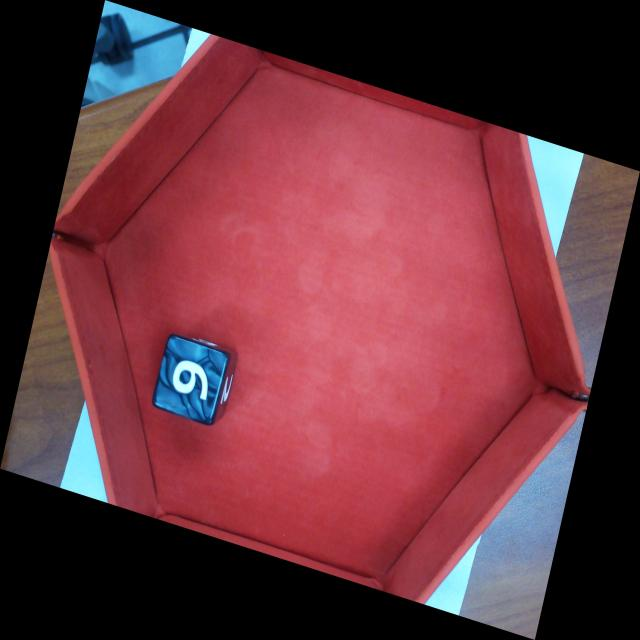dice: (150, 334, 233, 431)
